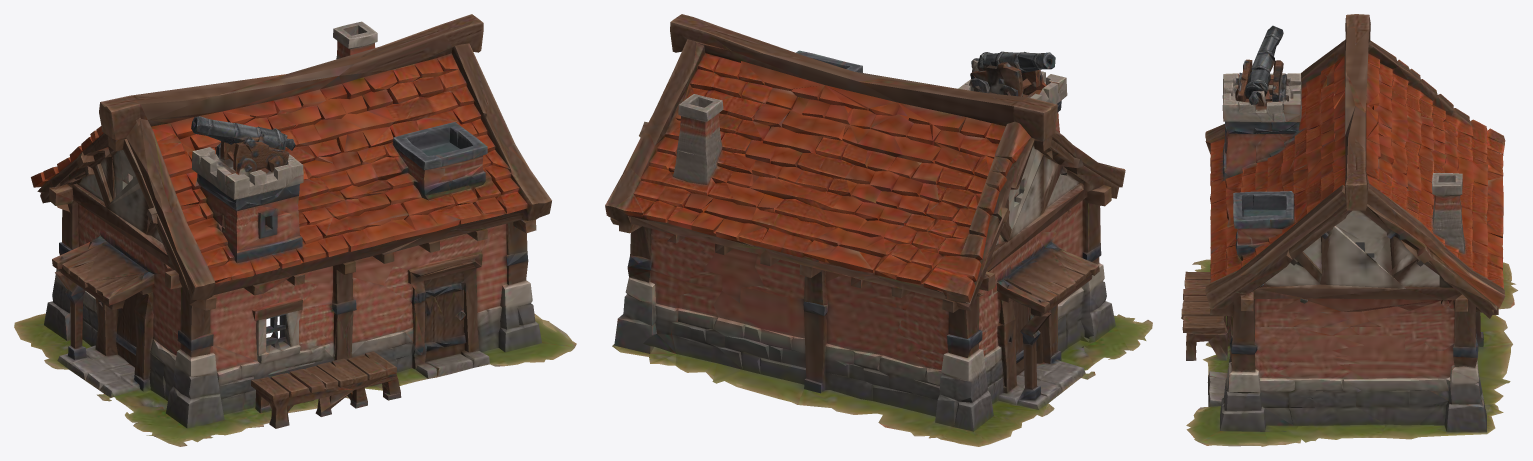
The model's file is storage.glb.
3 views of the same model, side by side, from view 1: azimuth 30°, elevation 25°; view 2: azimuth 150°, elevation 25°; view 3: azimuth 270°, elevation 25° (orthographic). The views are drawn at different scales.
Size of the model in its own units: 1.9 by 1.23 by 1.42.
Materials: 1 (1 with a texture image).
